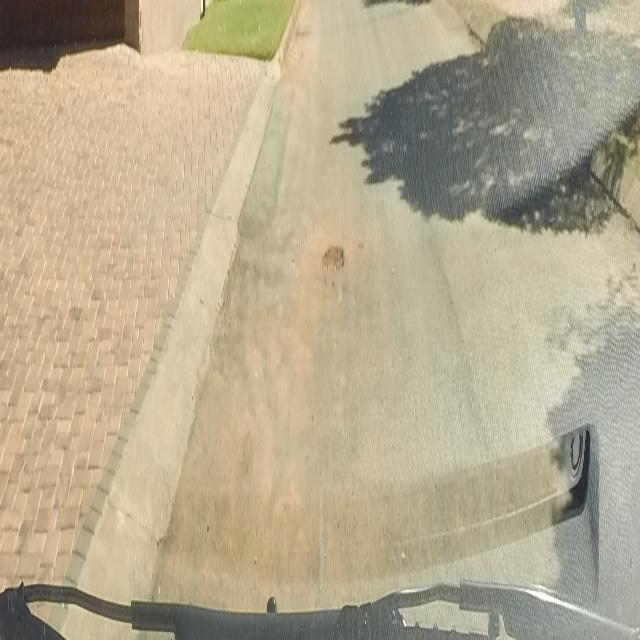pothole: (321, 242, 345, 278)
